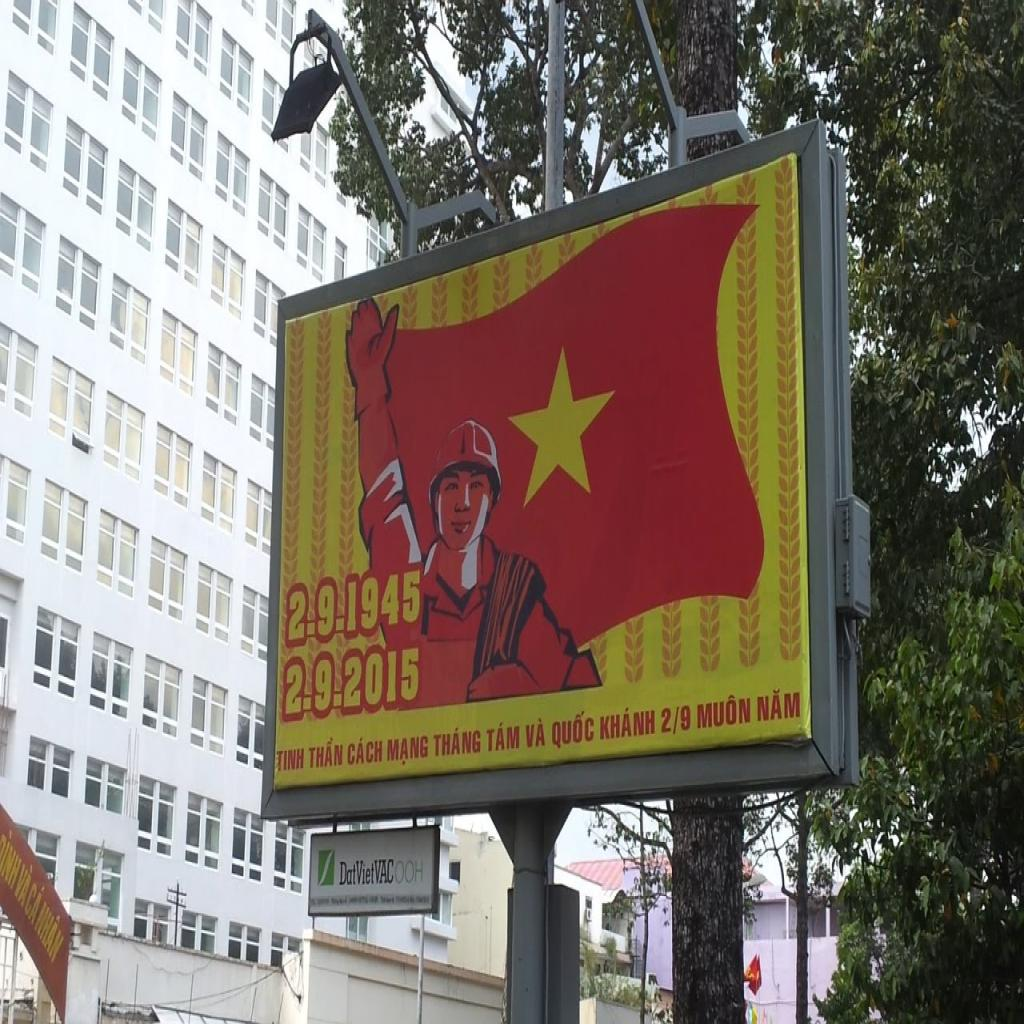text: (347, 564, 423, 636), (342, 648, 421, 712), (338, 855, 426, 890), (754, 681, 804, 731), (597, 702, 656, 744), (695, 690, 753, 732), (283, 580, 318, 649), (430, 721, 482, 762), (282, 654, 314, 718), (550, 706, 596, 750), (0, 824, 25, 900), (313, 656, 343, 718), (318, 578, 346, 642), (385, 734, 429, 771), (308, 735, 346, 774), (22, 878, 46, 937), (14, 859, 36, 919), (346, 734, 383, 769), (484, 721, 522, 752), (274, 746, 308, 774), (526, 714, 546, 754), (658, 702, 674, 736), (670, 702, 682, 744), (681, 703, 692, 731)
